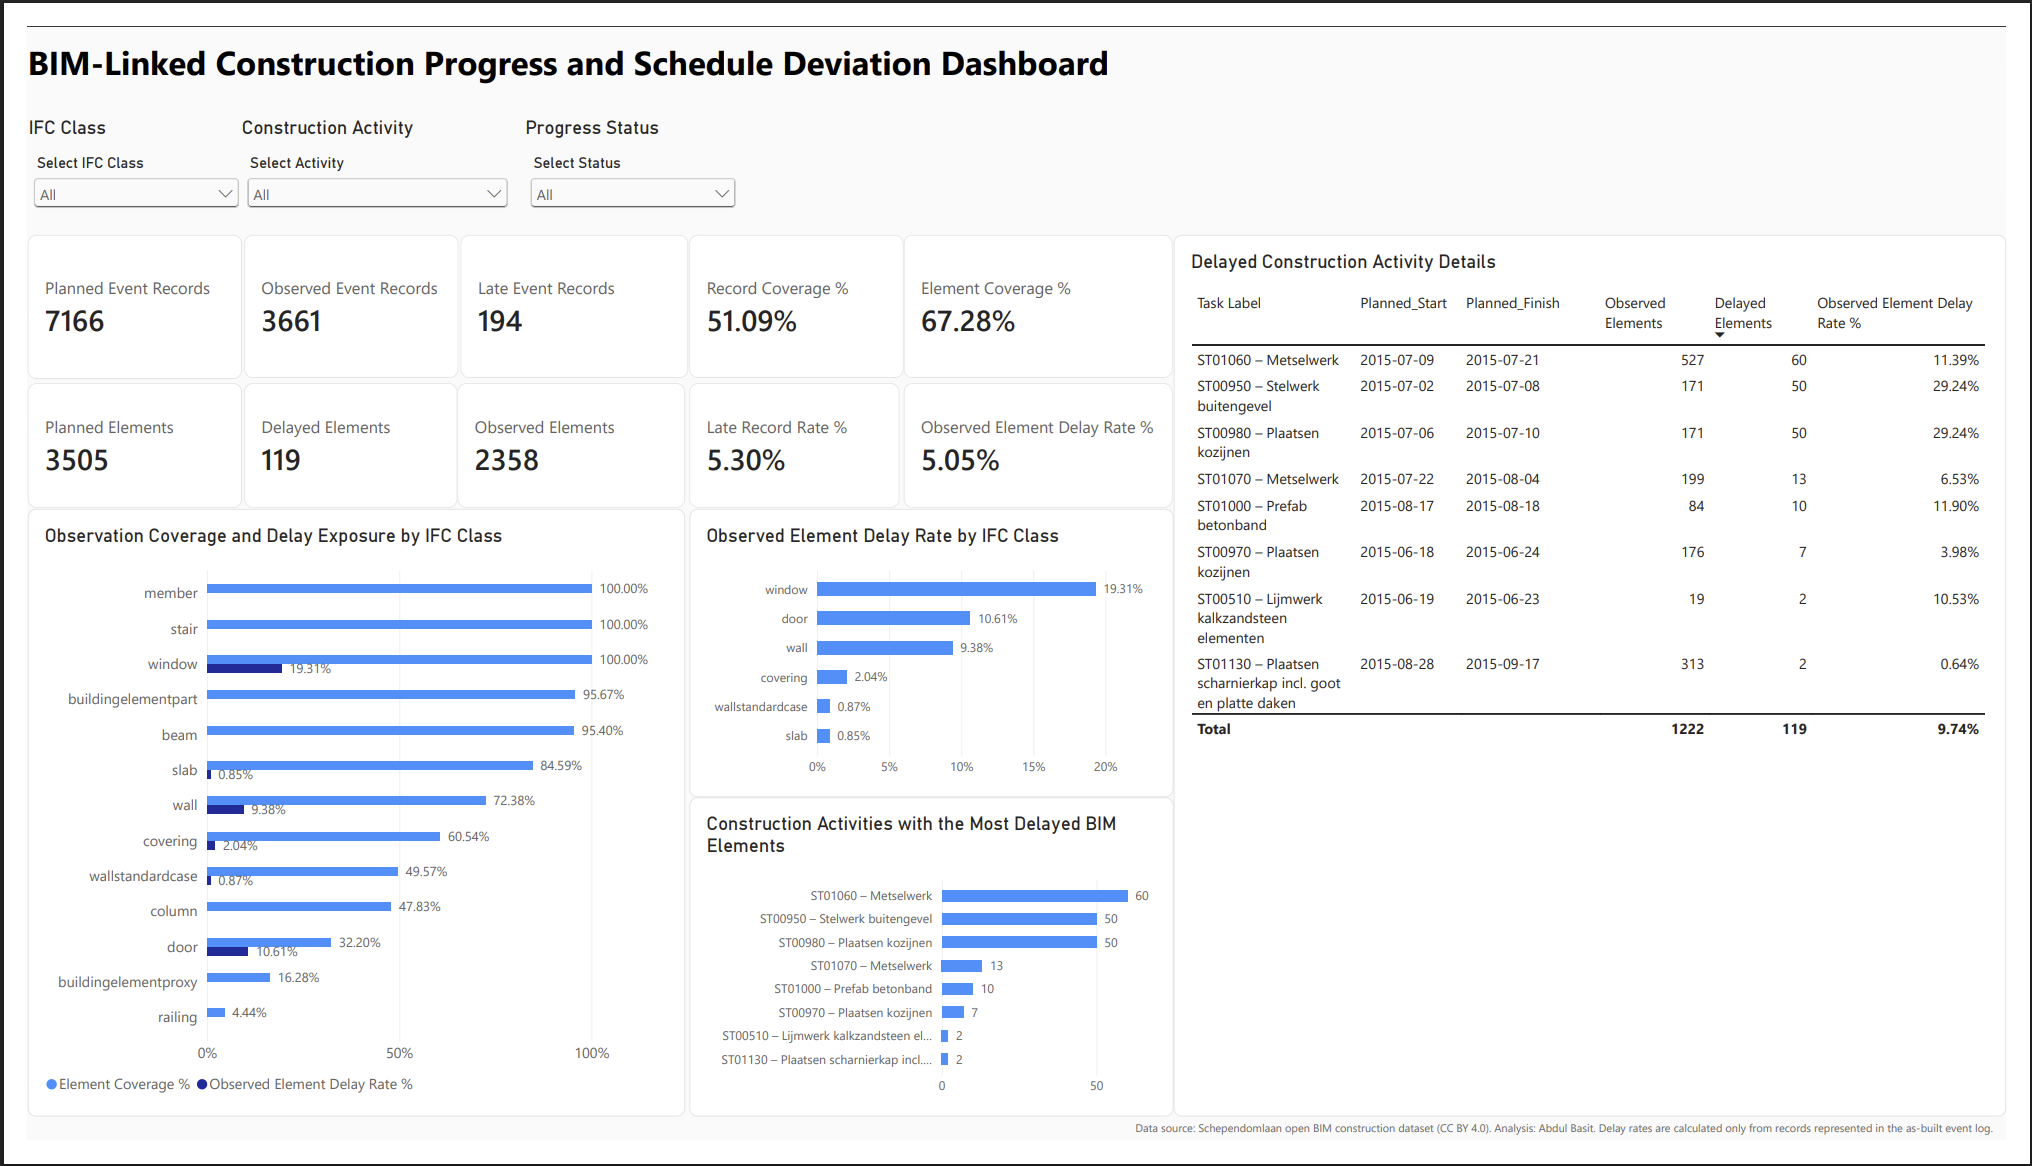

Layout of this report page (visuals, bound fields, positions):
{"tool":"powerbi","page":{"name":"Page 1","canvas":[1920,1080],"ordinal":0},"visuals":[{"type":"textbox","box":[1750,0,170,280],"z":1000},{"type":"cardVisual","fields":{"Data":["Fact_ProgressEvents.Planned Event Records"]},"box":[0,202.4,208.3,140.5],"z":2000},{"type":"cardVisual","fields":{"Data":["Fact_ProgressEvents.Observed Event Records"]},"box":[209.5,202.4,208.3,139.3],"z":3000},{"type":"cardVisual","fields":{"Data":["Fact_ProgressEvents.Late Event Records"]},"box":[420.2,202.4,221.4,139.3],"z":4000},{"type":"cardVisual","fields":{"Data":["Fact_ProgressEvents.Planned Elements"]},"box":[0,346.4,208.3,121.4],"z":5000},{"type":"cardVisual","fields":{"Data":["Fact_ProgressEvents.Observed Elements"]},"box":[416.7,346.4,221.4,121.4],"z":6000},{"type":"cardVisual","fields":{"Data":["Fact_ProgressEvents.Delayed Elements"]},"box":[209.5,346.4,207.1,121.4],"z":7000},{"type":"cardVisual","fields":{"Data":["Fact_ProgressEvents.Record Coverage %"]},"box":[641.7,202.4,208.3,139.3],"z":8000},{"type":"cardVisual","fields":{"Data":["Fact_ProgressEvents.Observed Element Delay Rate %"]},"box":[850,346.4,261.9,121.4],"z":9000},{"type":"cardVisual","fields":{"Data":["Fact_ProgressEvents.Element Coverage %"]},"box":[850,202.4,261.9,139.3],"z":10000},{"type":"cardVisual","fields":{"Data":["Fact_ProgressEvents.Late Record Rate %"]},"box":[641.7,346.4,204.8,121.4],"z":11000},{"type":"clusteredBarChart","title":"Observation Coverage and Delay Exposure by IFC Class","fields":{"Category":["Dim_Elements.Canonical_IfcClass"],"Y":["Fact_ProgressEvents.Element Coverage %","Fact_ProgressEvents.Observed Element Delay Rate %"]},"box":[0,467.9,638.1,590.5],"z":12000},{"type":"clusteredBarChart","title":"Construction Activities with the Most Delayed BIM Elements","fields":{"Category":["Dim_Tasks.Task Label"],"Y":["Fact_ProgressEvents.Delayed Elements"]},"box":[641.7,747.6,470.2,310.7],"z":13000},{"type":"clusteredBarChart","title":"Observed Element Delay Rate by IFC Class","fields":{"Category":["Dim_Elements.Canonical_IfcClass"],"Y":["Fact_ProgressEvents.Observed Element Delay Rate %"]},"box":[641.7,467.9,470.2,279.8],"z":14000},{"type":"tableEx","title":"Delayed Construction Activity Details","fields":{"Values":["Dim_Tasks.Task Label","Dim_Tasks.Planned_Start","Dim_Tasks.Planned_Finish","Fact_ProgressEvents.Observed Elements","Fact_ProgressEvents.Delayed Elements","Fact_ProgressEvents.Observed Element Delay Rate %"]},"box":[1111.9,202.4,808.3,856],"z":15000},{"type":"slicer","title":"IFC Class","fields":{"Values":["Dim_Elements.Canonical_IfcClass"]},"box":[1.2,86.9,208.6,100],"z":16000},{"type":"slicer","title":"Construction Activity","fields":{"Values":["Dim_Tasks.Task Label"]},"box":[208.3,86.9,262.9,128.6],"z":17000},{"type":"slicer","title":"Progress Status","fields":{"Values":["Fact_ProgressEvents.ProgressStatus"]},"box":[483.3,86.9,208.6,115.7],"z":18000},{"type":"textbox","box":[0,11.9,1920.2,59.5],"z":20000},{"type":"textbox","box":[1075,1058.3,845.2,21.4],"z":20001}]}

Visuals, with their boxes in screenshot pixels (x1, y1, x2, y2), scaled from the page's 1920x1080 canvas onto the 2032x1166 screenshot:
textbox: 1852, 0, 2031, 302
cardVisual - Fact_ProgressEvents.Planned Event Records: 0, 219, 220, 370
cardVisual - Fact_ProgressEvents.Observed Event Records: 222, 219, 442, 369
cardVisual - Fact_ProgressEvents.Late Event Records: 445, 219, 679, 369
cardVisual - Fact_ProgressEvents.Planned Elements: 0, 374, 220, 505
cardVisual - Fact_ProgressEvents.Observed Elements: 441, 374, 675, 505
cardVisual - Fact_ProgressEvents.Delayed Elements: 222, 374, 441, 505
cardVisual - Fact_ProgressEvents.Record Coverage %: 679, 219, 900, 369
cardVisual - Fact_ProgressEvents.Observed Element Delay Rate %: 900, 374, 1177, 505
cardVisual - Fact_ProgressEvents.Element Coverage %: 900, 219, 1177, 369
cardVisual - Fact_ProgressEvents.Late Record Rate %: 679, 374, 896, 505
"Observation Coverage and Delay Exposure by IFC Class" clusteredBarChart: 0, 505, 675, 1143
"Construction Activities with the Most Delayed BIM Elements" clusteredBarChart: 679, 807, 1177, 1143
"Observed Element Delay Rate by IFC Class" clusteredBarChart: 679, 505, 1177, 807
"Delayed Construction Activity Details" tableEx: 1177, 219, 2031, 1143
"IFC Class" slicer: 1, 94, 222, 202
"Construction Activity" slicer: 220, 94, 499, 233
"Progress Status" slicer: 511, 94, 732, 219
textbox: 0, 13, 2031, 77
textbox: 1138, 1143, 2031, 1165
